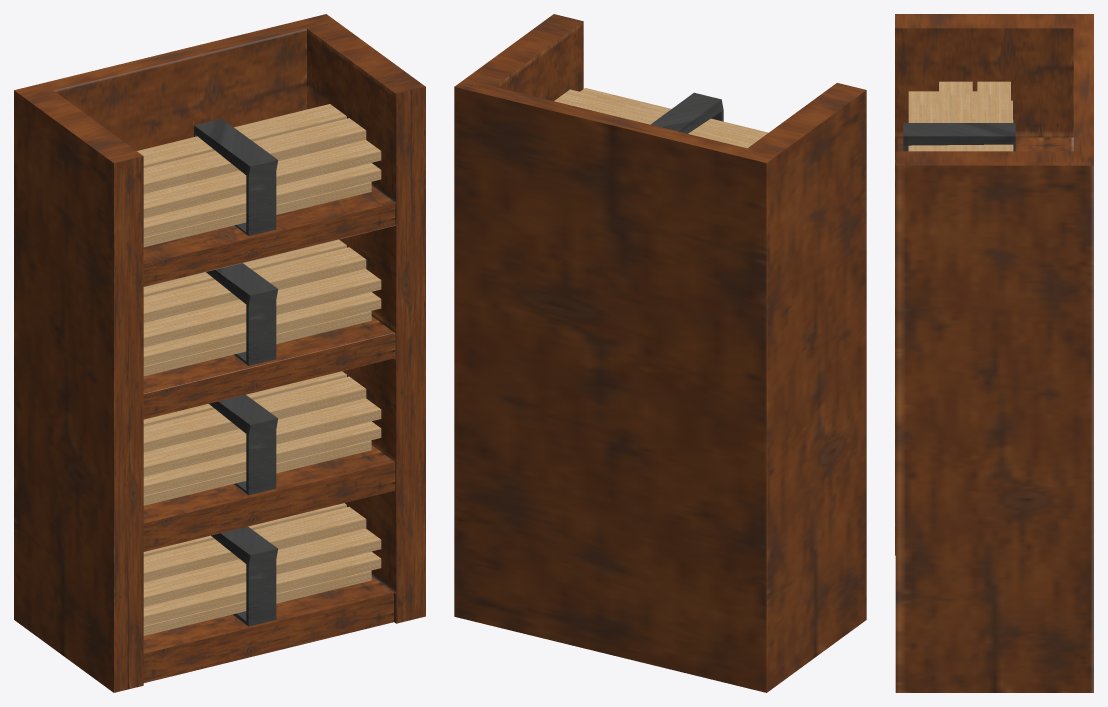
Rendered from odun dolabı yeni.fbx.
3 views of the same model, side by side, from view 1: azimuth 30°, elevation 25°; view 2: azimuth 150°, elevation 25°; view 3: azimuth 270°, elevation 25° (orthographic).
Visible parts, largest first — view 1: Cube.004; view 2: Cube.004; view 3: Cube.004.
Boxes of the visible parts, left/top/right/bottom form: Cube.004: left=14, top=14, right=425, bottom=692; Cube.004: left=454, top=14, right=866, bottom=692; Cube.004: left=895, top=14, right=1093, bottom=692.
Size of the model in its own units: 97.23 by 158 by 53.86.
1 material, 1 textured.
